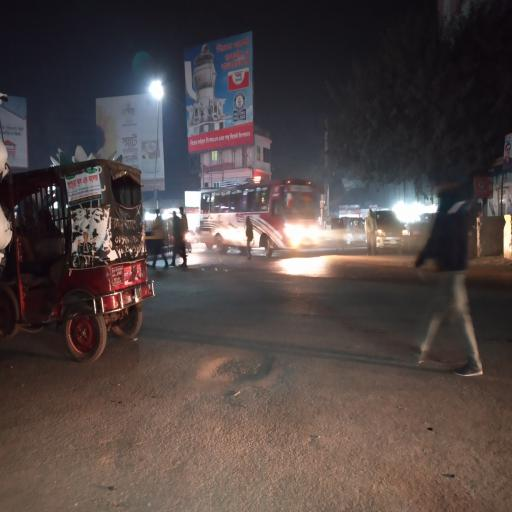auto rickshaw: (8, 166, 155, 369)
bus: (199, 187, 325, 265)
minivan: (371, 212, 412, 254)
